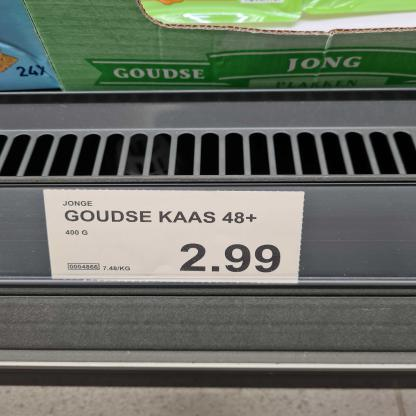prtg: (45, 191, 306, 285)
